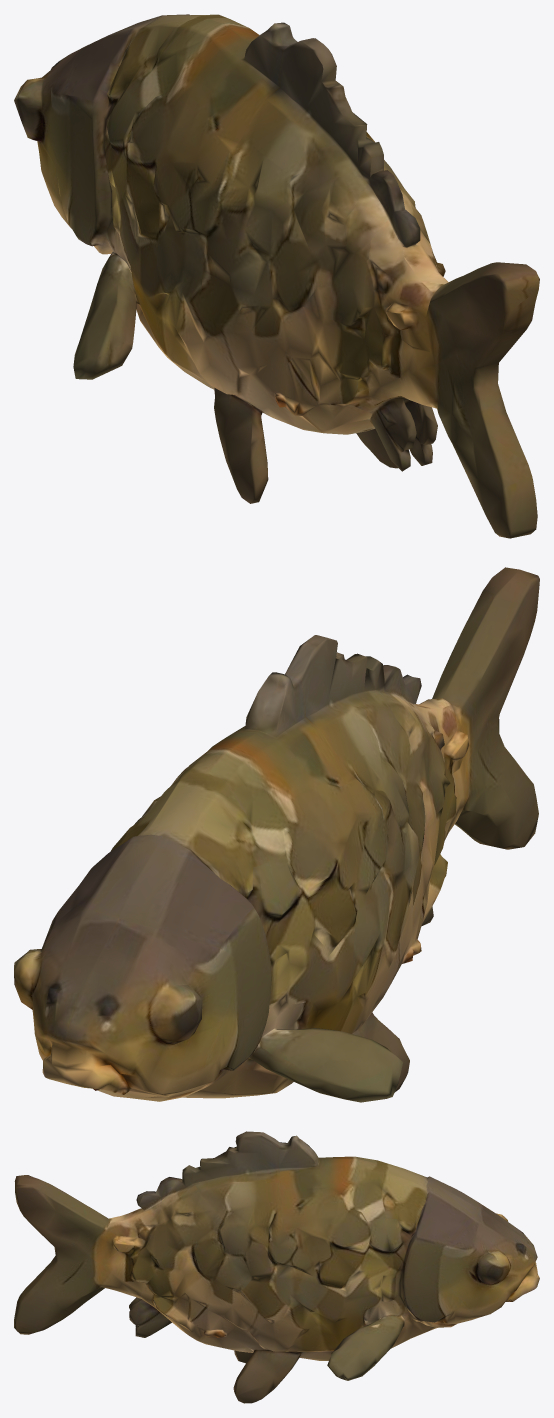
Rendered from fishCarp.glb.
The picture shows the model from 3 angles, top to bottom: view 1: azimuth 30°, elevation 25°; view 2: azimuth 150°, elevation 25°; view 3: azimuth 270°, elevation 25°; orthographic projection. The views are drawn at different scales.
Parts seen in each view (by area): view 1: tripo_node_15eb4bce-5321-4211-9ec8-93339d1272a2; view 2: tripo_node_15eb4bce-5321-4211-9ec8-93339d1272a2; view 3: tripo_node_15eb4bce-5321-4211-9ec8-93339d1272a2.
Boxes of the visible parts, x1,y1,x2,y2 form: tripo_node_15eb4bce-5321-4211-9ec8-93339d1272a2: [14, 14, 539, 538]; tripo_node_15eb4bce-5321-4211-9ec8-93339d1272a2: [14, 567, 539, 1102]; tripo_node_15eb4bce-5321-4211-9ec8-93339d1272a2: [14, 1131, 539, 1403].
Bounding box in the file's own units: 0.7579 × 1 × 1.9.
Materials: 1 (1 with a texture image).
